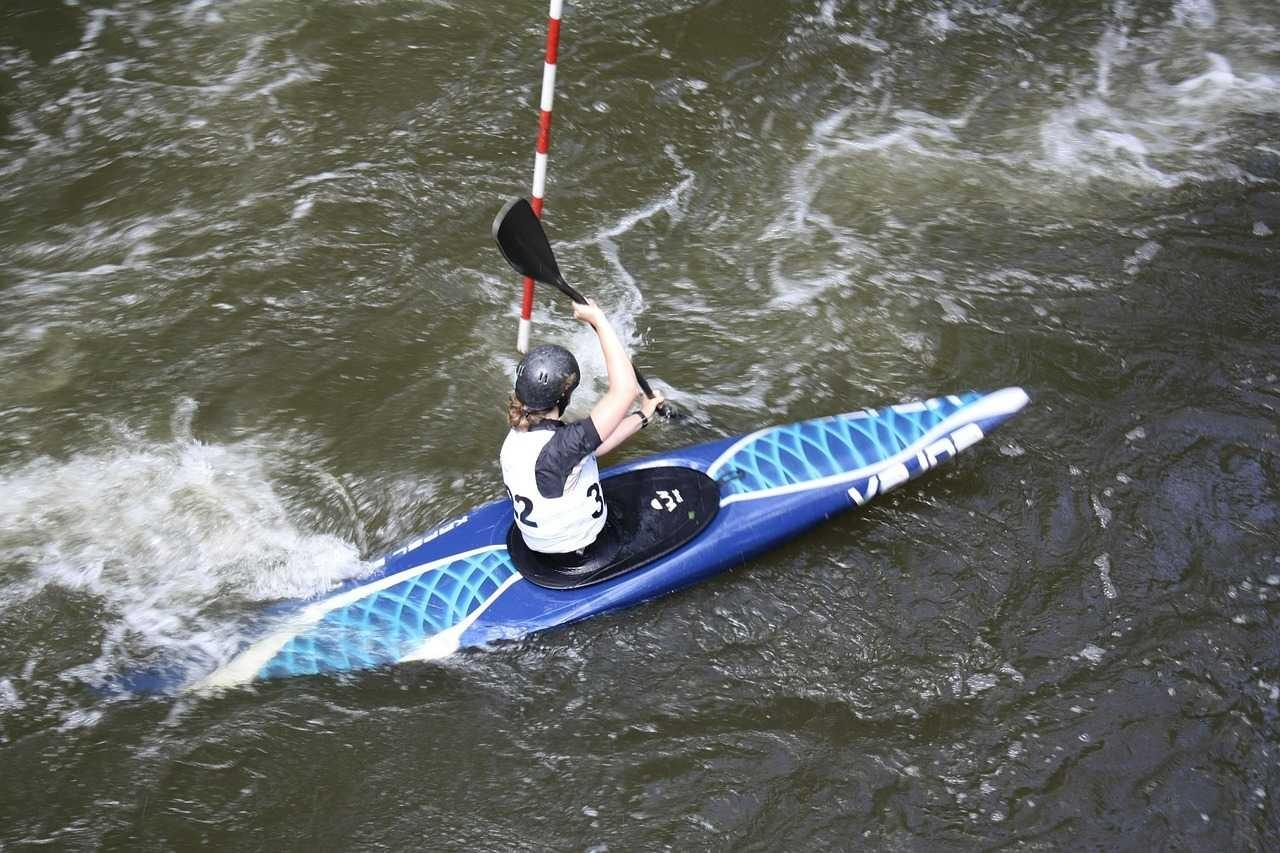kayak: (191, 387, 1029, 689)
